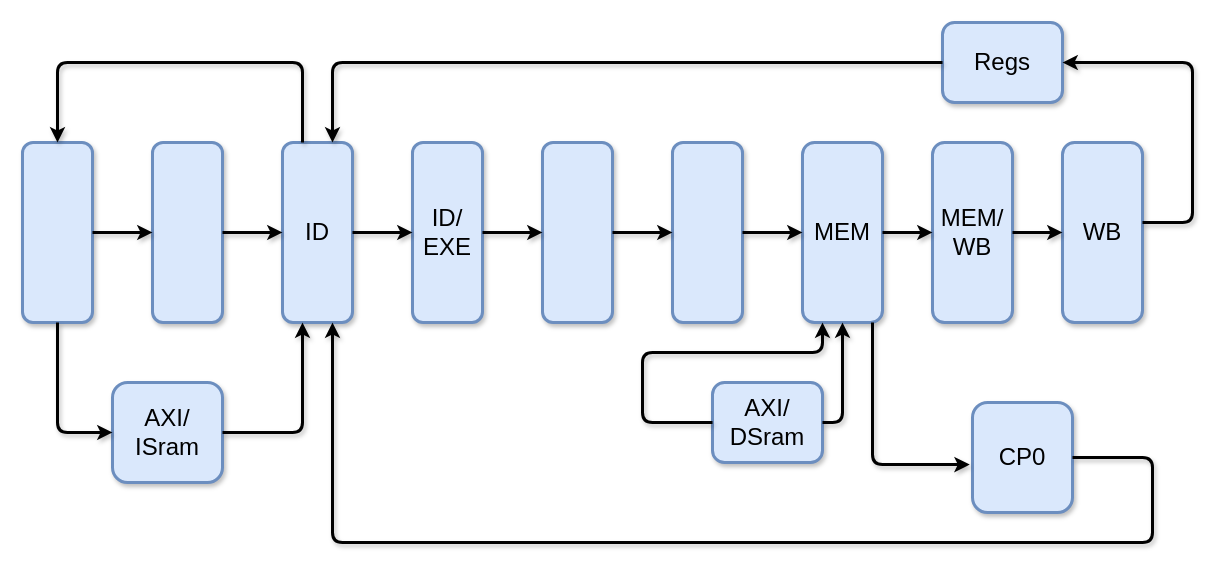
Some shapes in this 1225 by 576 pixel diagram are drawn without their labels. Each missing label, with the centre of its shape:
EXE: [578,233]
EXE/ MEM: [708,233]
IF: [58,233]
IF/ID: [188,233]
